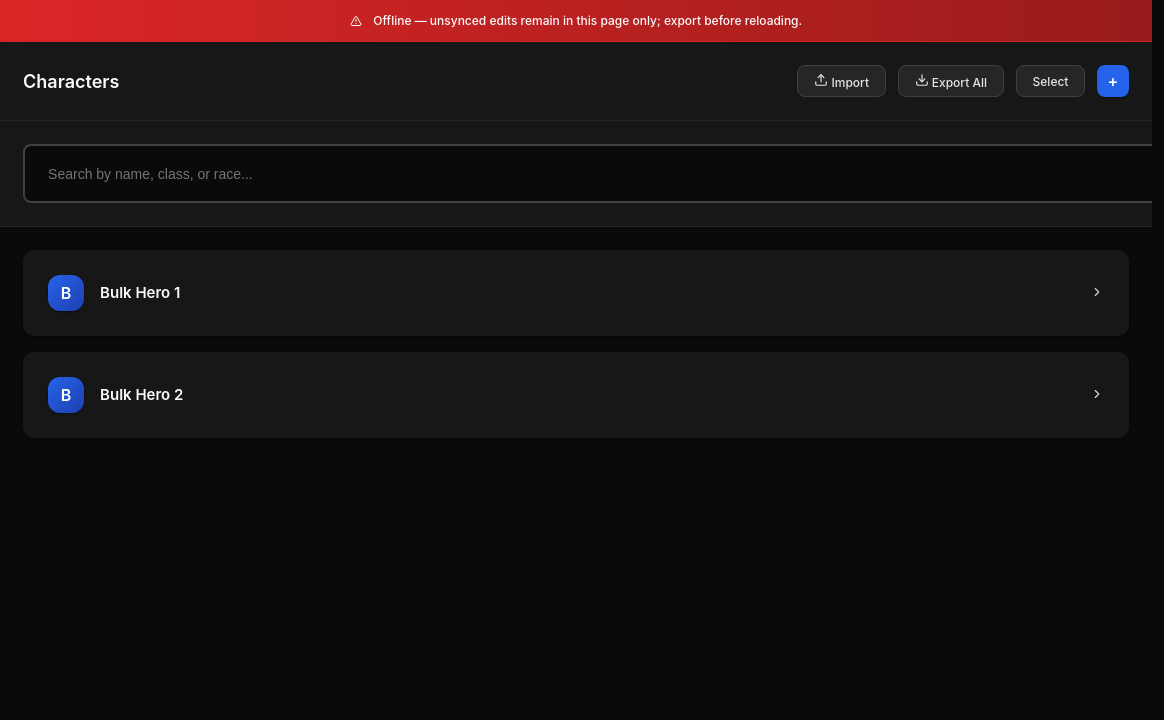
Test case: CharacterPanel › Bulk Operations › enters bulk selection mode
Note: Enter bulk selection mode
Click the button "Select".
click(1051, 81)  # box 1016,65 -> 1086,97
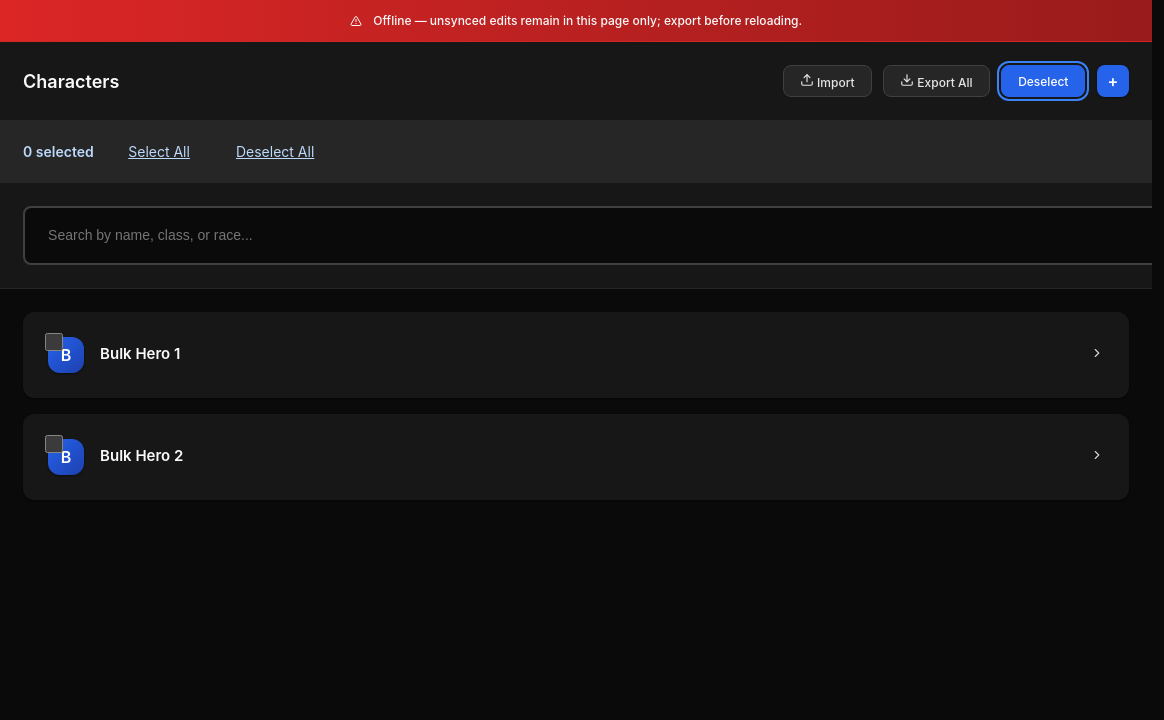
Expected: the button "Select All" is shown, 117,137 -> 201,166
Expected: the number of checkboxes is 2, 45,333 -> 63,351; 45,435 -> 63,453
